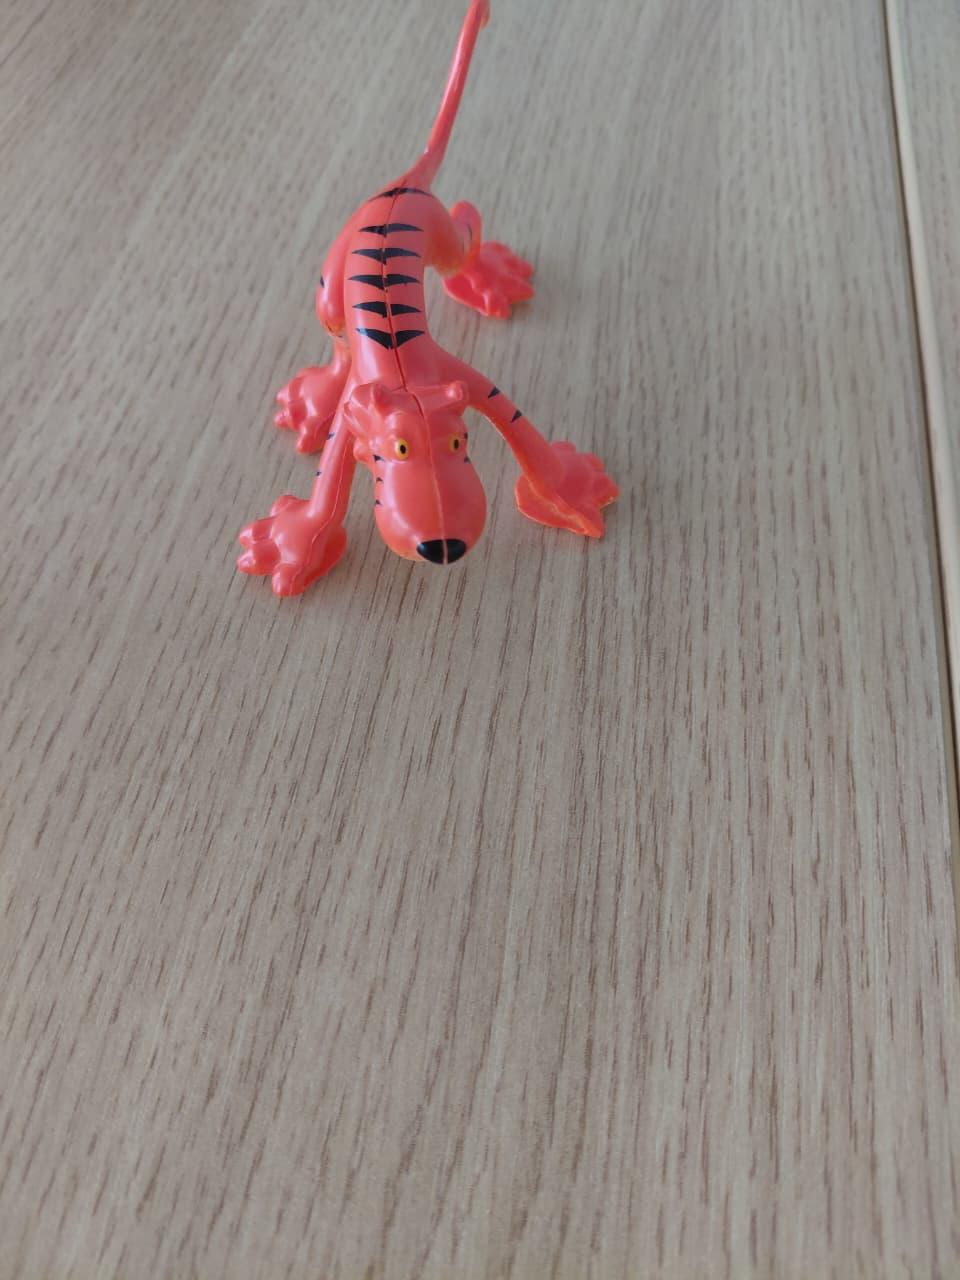tiger: (193, 5, 659, 623)
